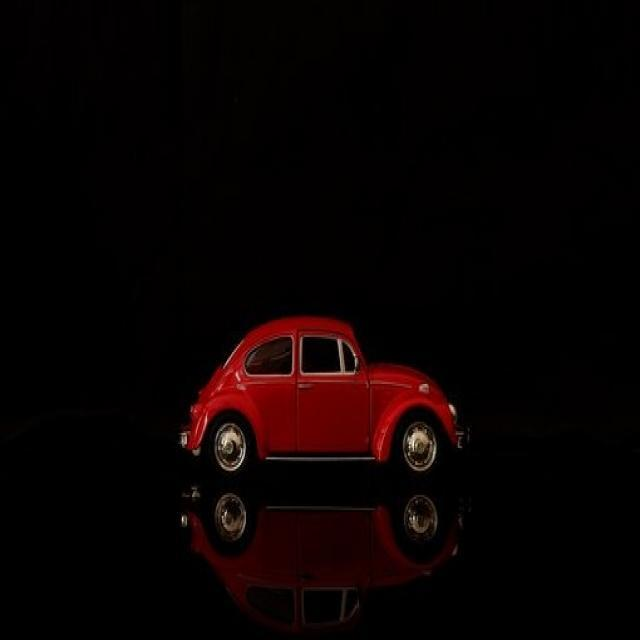cars: (180, 312, 472, 489)
